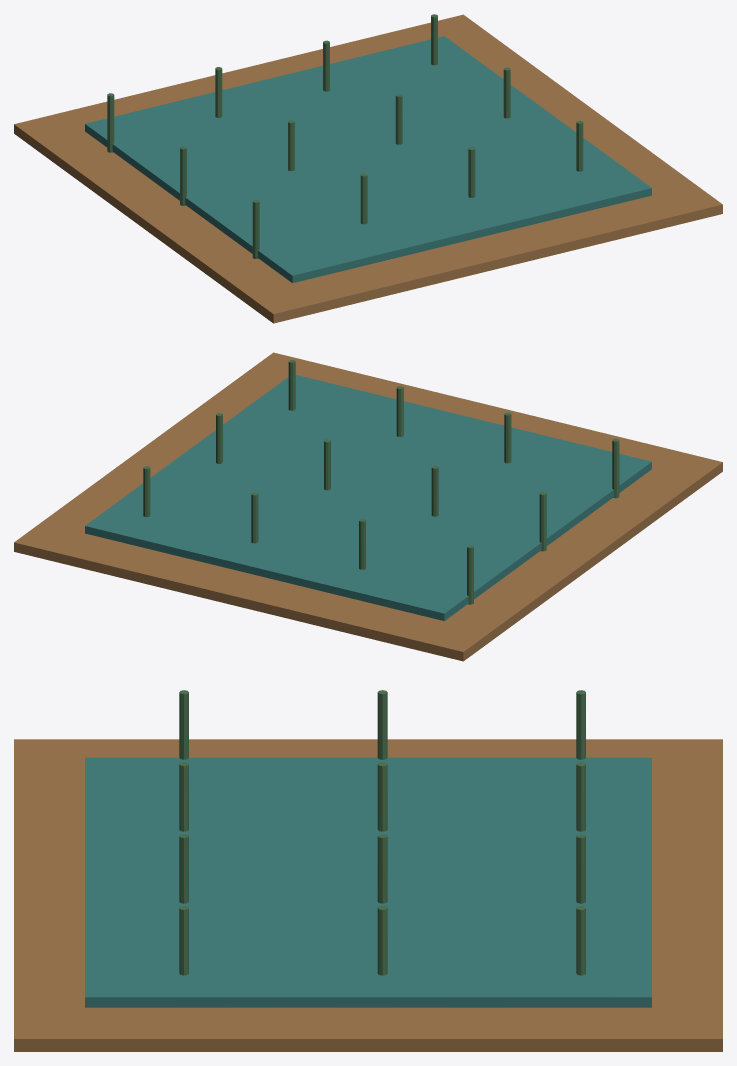
The model's file is Wetland.glb.
The picture shows the model from 3 angles, top to bottom: view 1: azimuth 30°, elevation 25°; view 2: azimuth 150°, elevation 25°; view 3: azimuth 270°, elevation 25°; orthographic projection. The views are drawn at different scales.
Visible parts, largest first — view 1: wetland-static-wetland-water, wetland-static-wetland-earth, wetland-static-wetland-leaf; view 2: wetland-static-wetland-water, wetland-static-wetland-earth, wetland-static-wetland-leaf; view 3: wetland-static-wetland-water, wetland-static-wetland-earth, wetland-static-wetland-leaf.
Part boxes in pixels (left/top/right/bottom): wetland-static-wetland-water: left=85, top=36, right=651, bottom=283; wetland-static-wetland-earth: left=14, top=14, right=722, bottom=323; wetland-static-wetland-leaf: left=107, top=14, right=583, bottom=258; wetland-static-wetland-water: left=85, top=375, right=651, bottom=620; wetland-static-wetland-earth: left=14, top=352, right=722, bottom=661; wetland-static-wetland-leaf: left=143, top=360, right=619, bottom=604; wetland-static-wetland-water: left=85, top=757, right=651, bottom=1007; wetland-static-wetland-earth: left=14, top=739, right=722, bottom=1051; wetland-static-wetland-leaf: left=179, top=690, right=585, bottom=975.
Size of the model in its own units: 5 by 0.7 by 5.
